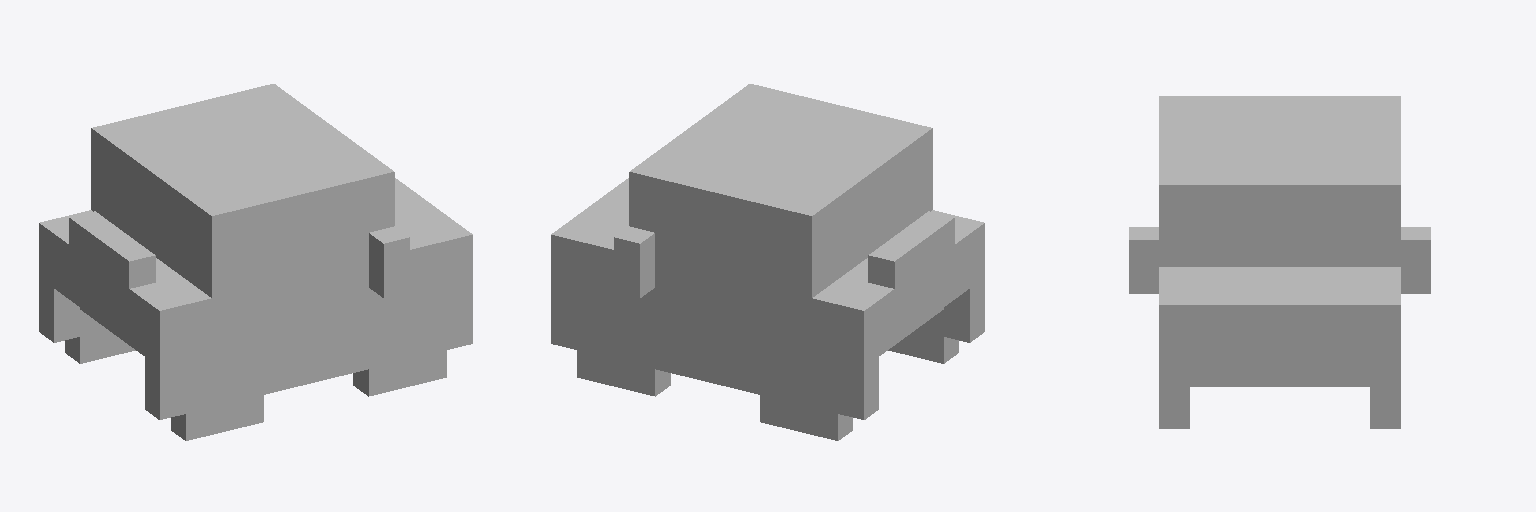
Rendered from car2.obj.
3 renders of one model, left to right at view 1: azimuth 30°, elevation 25°; view 2: azimuth 150°, elevation 25°; view 3: azimuth 270°, elevation 25°, orthographic.
Parts seen in each view (by area): view 1: object 1; view 2: object 1; view 3: object 1.
Part boxes in pixels (bbox=[...]): object 1: bbox=[39, 84, 472, 440]; object 1: bbox=[551, 84, 984, 440]; object 1: bbox=[1129, 96, 1430, 428].
Bounding box in the file's own units: 1.2 × 0.8 × 1.